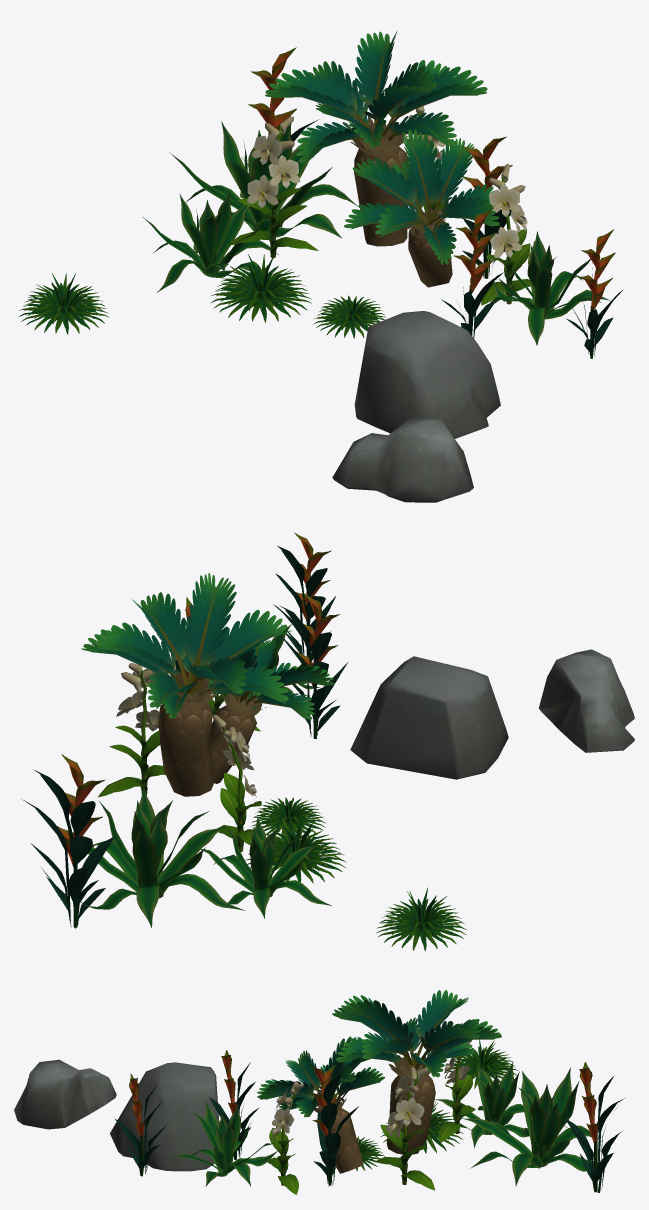
Rendered from heliconia-rock.glb.
3 views of the same model, one above another, from view 1: azimuth 30°, elevation 25°; view 2: azimuth 150°, elevation 25°; view 3: azimuth 270°, elevation 25° (orthographic). The views are drawn at different scales.
Bounding box in the file's own units: 38.73 × 22.27 × 60.07.
Materials: 7 (7 with a texture image).
